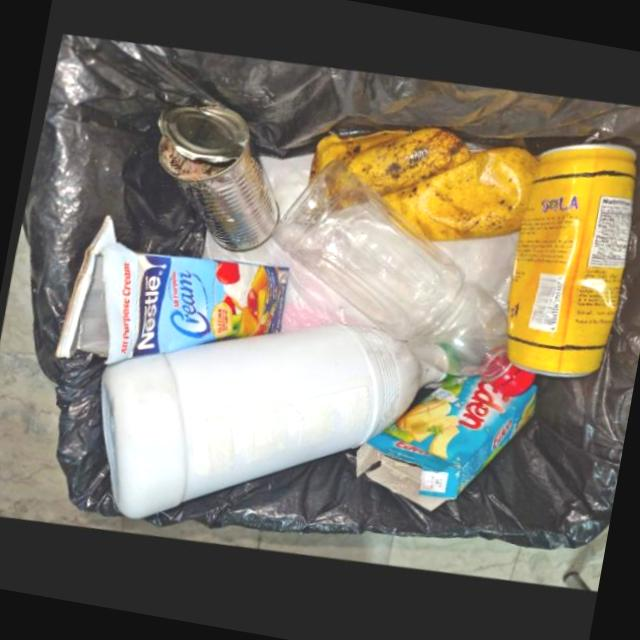carton: (353, 378, 533, 512)
chai_nhua: (99, 324, 454, 519)
chai_nhua_pet: (268, 158, 532, 399)
nhom: (502, 141, 632, 378), (153, 103, 275, 251)
vo_hop_sua: (55, 217, 285, 364)
vo_trai_cay: (309, 127, 533, 242)
